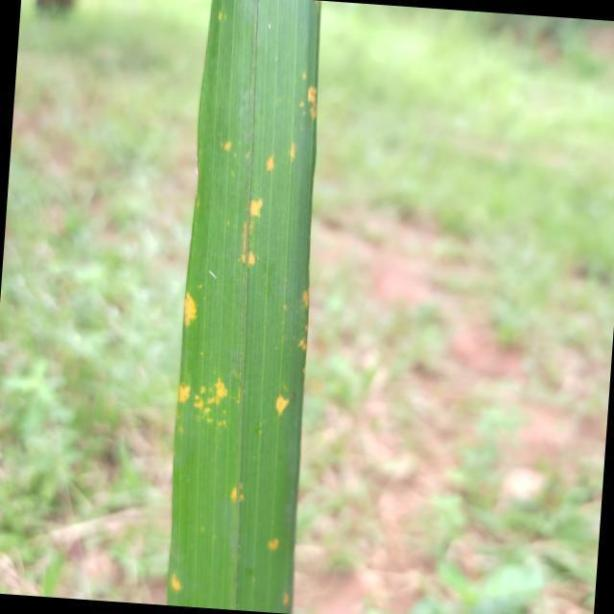Kalium: (166, 1, 321, 614)
